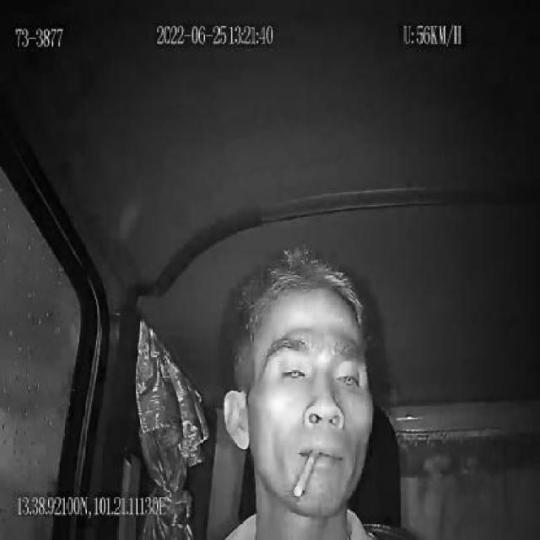smoking: (292, 449, 320, 500)
